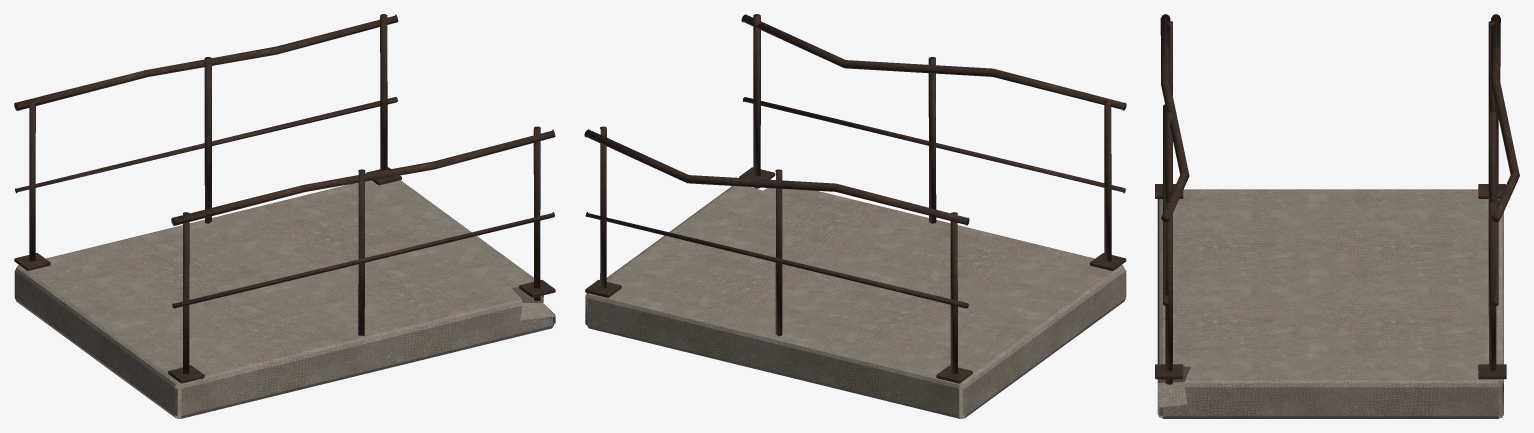
File: lod1_NOT_APPROVED.glb
3 views of the same model, side by side, from view 1: azimuth 30°, elevation 25°; view 2: azimuth 150°, elevation 25°; view 3: azimuth 270°, elevation 25° (orthographic). The views are drawn at different scales.
Visible parts, largest first — view 1: f3_weathered_concrete_surface, f3_oxidized_iron_surface; view 2: f3_weathered_concrete_surface, f3_oxidized_iron_surface; view 3: f3_weathered_concrete_surface, f3_oxidized_iron_surface.
Boxes of the visible parts, box(x1,y1,x2,y2) form: f3_weathered_concrete_surface: box(14, 180, 555, 418); f3_oxidized_iron_surface: box(14, 14, 555, 383); f3_weathered_concrete_surface: box(585, 186, 1126, 418); f3_oxidized_iron_surface: box(584, 14, 1126, 383); f3_weathered_concrete_surface: box(1157, 189, 1503, 418); f3_oxidized_iron_surface: box(1155, 14, 1519, 384).
Size of the model in its own units: 2.6 by 1.33 by 2.05.
2 materials, 2 textured.
